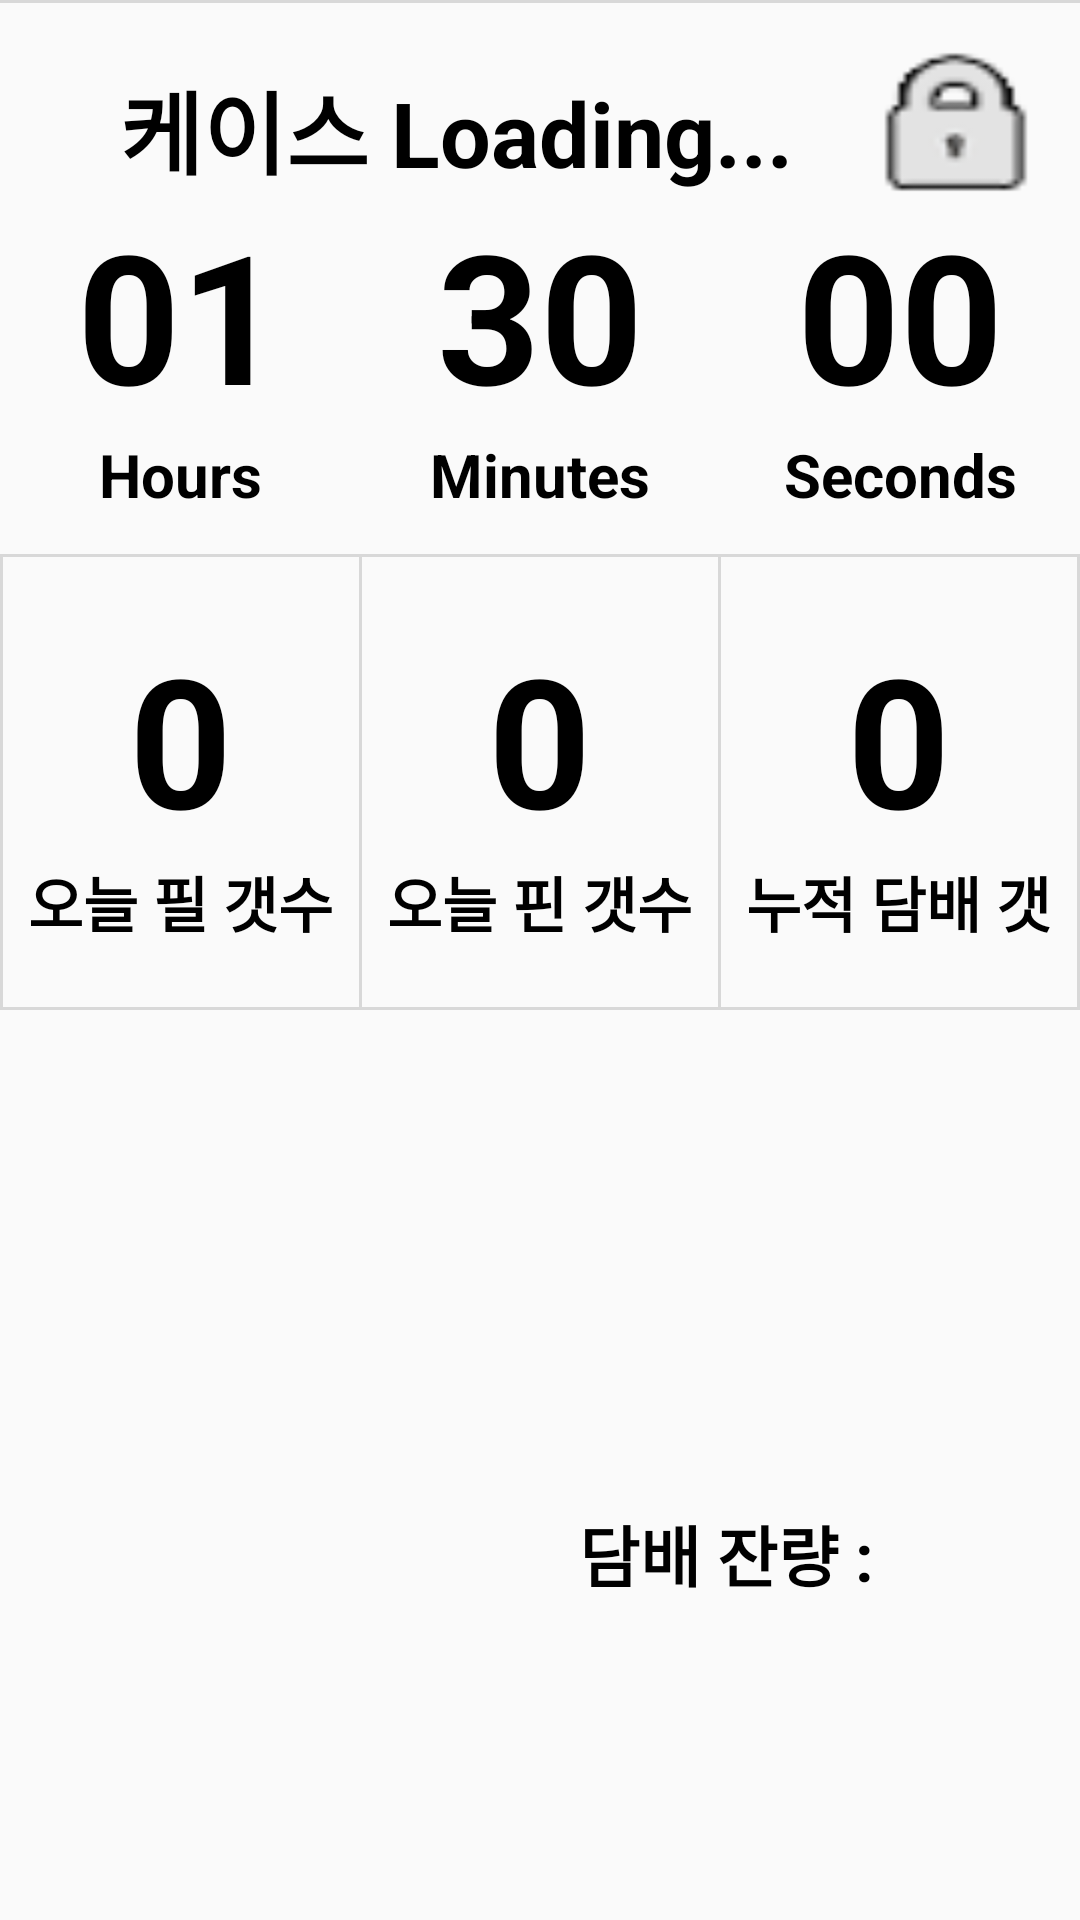

Where to tap for icons on this 1080 x 1920 app screen, as (x,y):
lock: (956,122)
